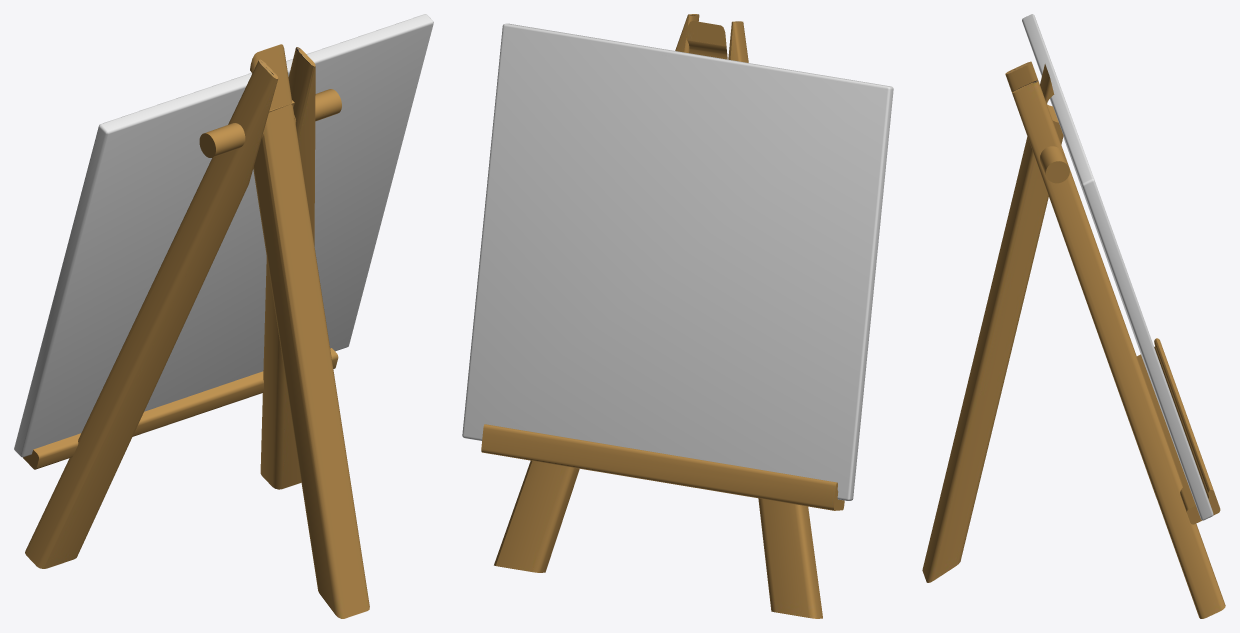
File: eizel.gltf
3 views of the same model, side by side, from view 1: azimuth 30°, elevation 25°; view 2: azimuth 150°, elevation 25°; view 3: azimuth 270°, elevation 25° (orthographic). The views are drawn at different scales.
Visible parts, largest first — view 1: canvas.1, Cube.1 (×2), Cube.2, Cube.4, Cylinder; view 2: canvas.1, Cube.4, Cube.1 (×2), Cube.2; view 3: Cube.1 (×2), canvas.1, Cube.4, Cylinder, Cube.2.
Boxes of the visible parts, bbox=[...] form: canvas.1: bbox=[14, 14, 433, 457]; Cube.1 (×2): bbox=[250, 44, 369, 618]; Cube.2: bbox=[25, 59, 278, 568]; Cube.4: bbox=[23, 348, 338, 469]; Cylinder: bbox=[199, 89, 341, 157]; canvas.1: bbox=[462, 23, 893, 500]; Cube.4: bbox=[481, 424, 844, 510]; Cube.1 (×2): bbox=[494, 14, 727, 572]; Cube.2: bbox=[728, 21, 822, 618]; Cube.1 (×2): bbox=[922, 64, 1225, 618]; canvas.1: bbox=[1022, 14, 1213, 520]; Cube.4: bbox=[1137, 338, 1220, 524]; Cylinder: bbox=[1040, 146, 1069, 183]; Cube.2: bbox=[1005, 61, 1155, 496].
Size of the model in its own units: 411 by 537 by 297.
9 materials, 9 textured.
